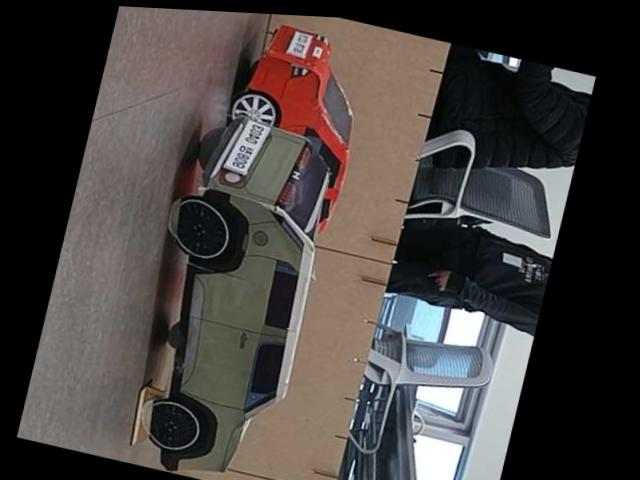car: (104, 97, 354, 480), (224, 14, 380, 153)
id: (220, 115, 272, 179), (284, 27, 314, 61)
